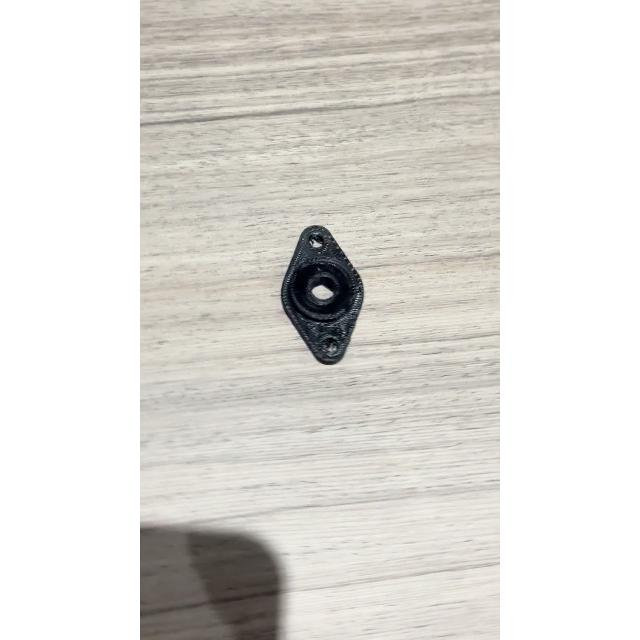Pieza_2: (274, 214, 372, 378)
